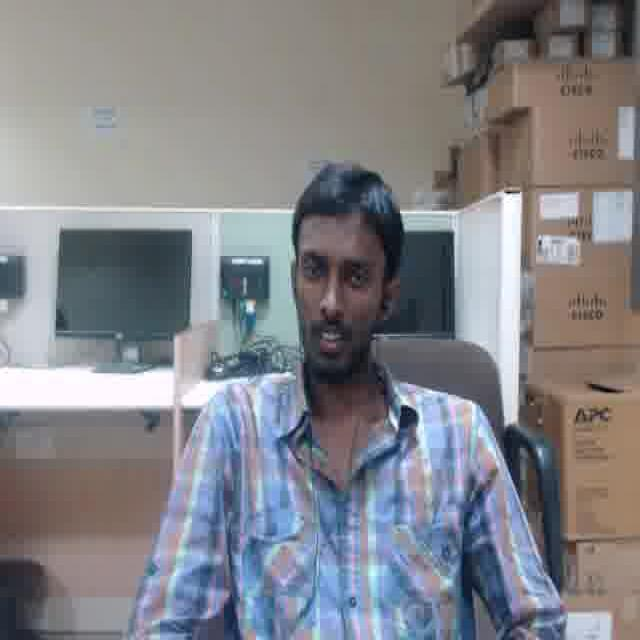Engaged: (292, 210, 380, 370)
